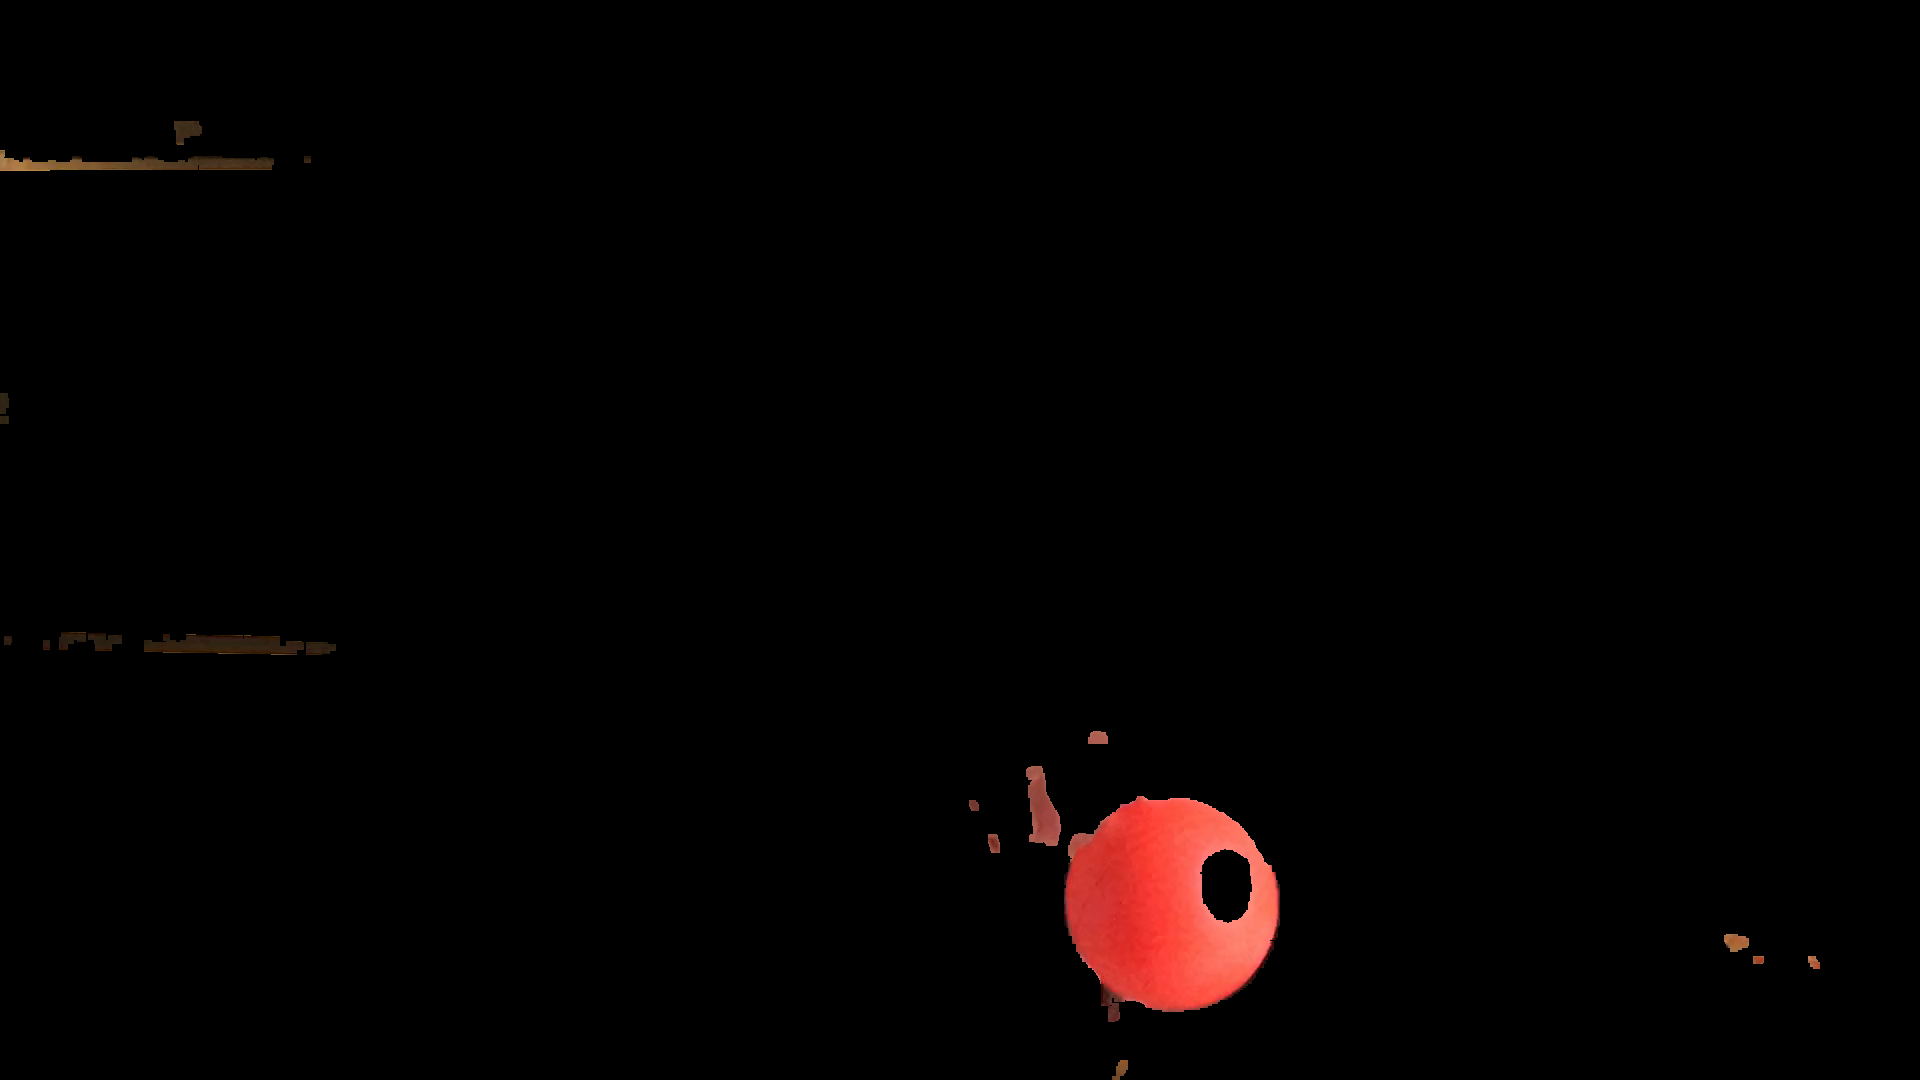Ball: (1068, 795, 1279, 1007)
